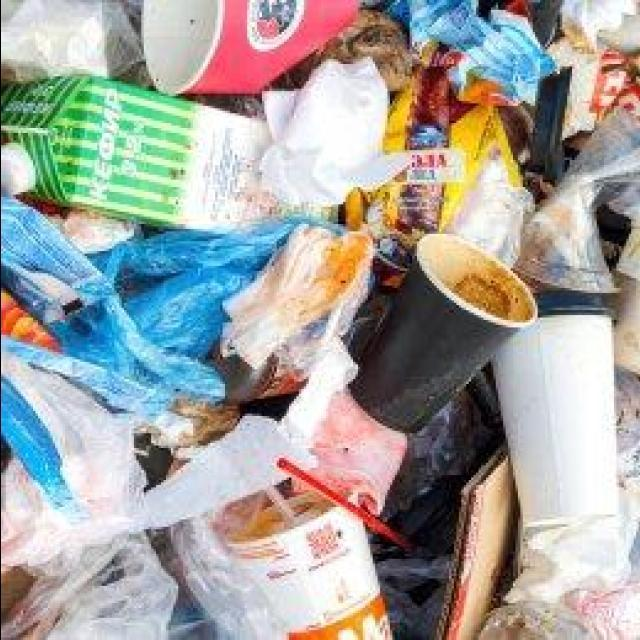Mask: (406, 0, 555, 101)
Plastic: (446, 116, 637, 291)
contaminated_waste: (1, 63, 384, 640)
